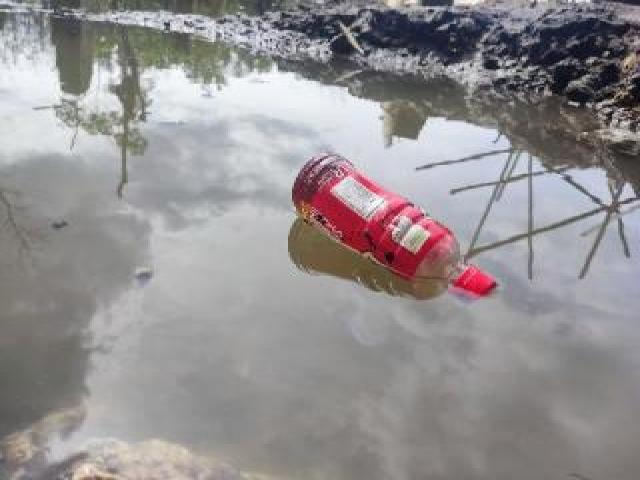Bottle: (291, 146, 501, 301)
